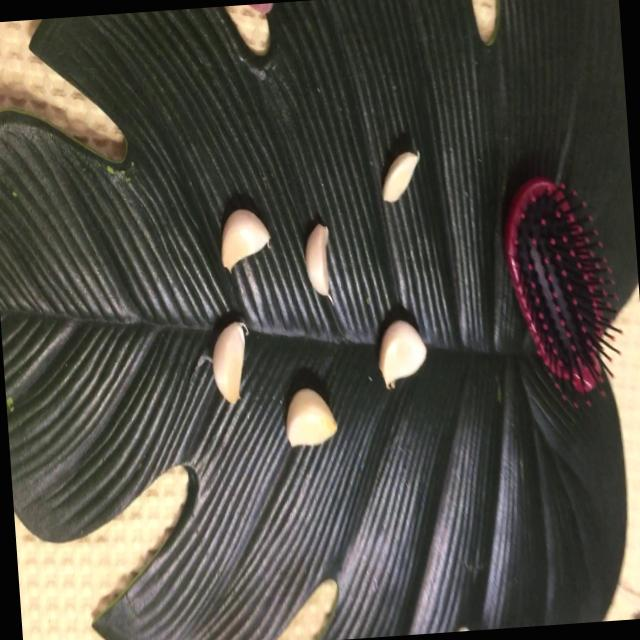bawang: (208, 200, 275, 278), (368, 316, 433, 390), (276, 379, 341, 452), (206, 312, 254, 406), (294, 211, 342, 302), (370, 138, 424, 210)
